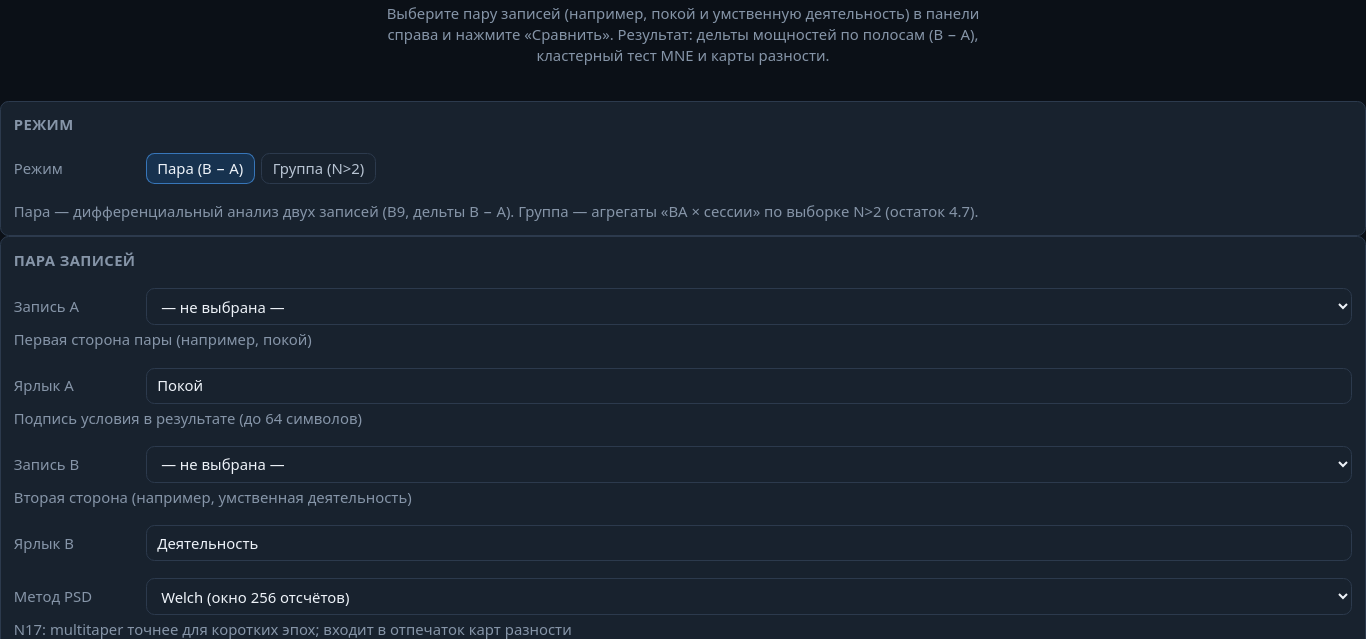
Test: режим «Группа (N>2)» › результат: паспорт, таблицы, каветы и экспорт CSV
The width and height of the screenshot is (1366, 639).
Click the button "Группа (N>2)": x=318, y=168 [261, 152, 376, 184]
(page scrolled)
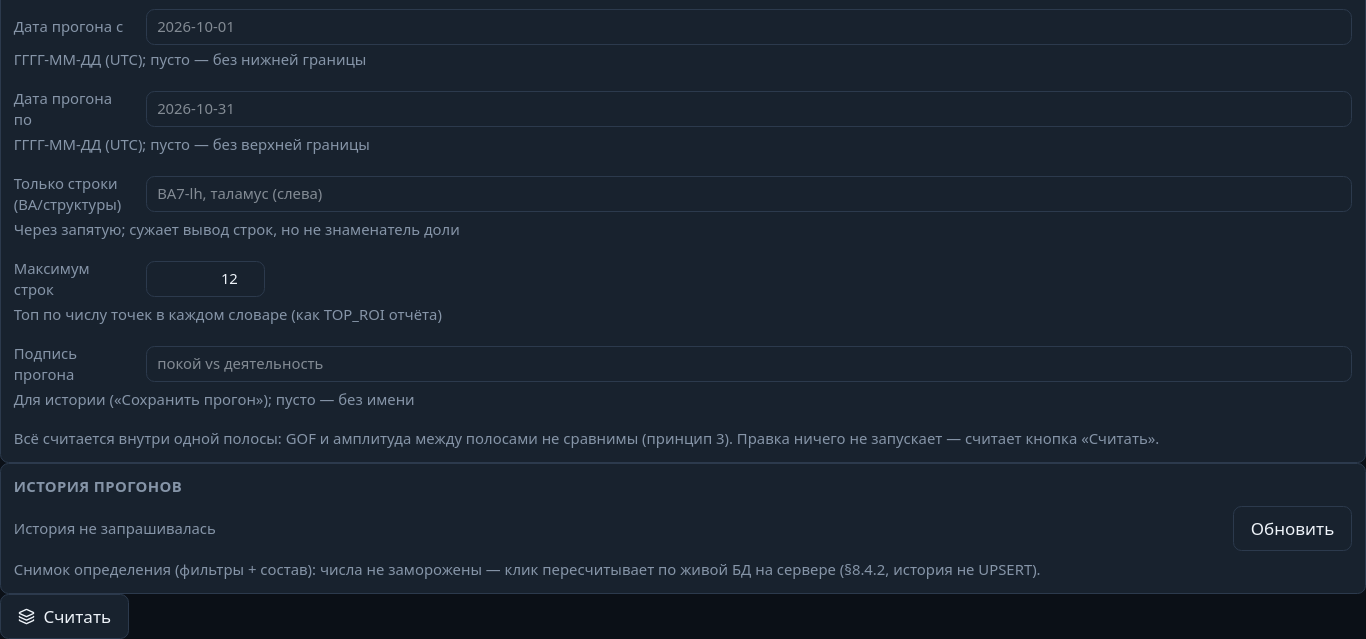
Click the button with test id "group-run-aggregate": x=65, y=616 [0, 594, 129, 638]
(page scrolled)
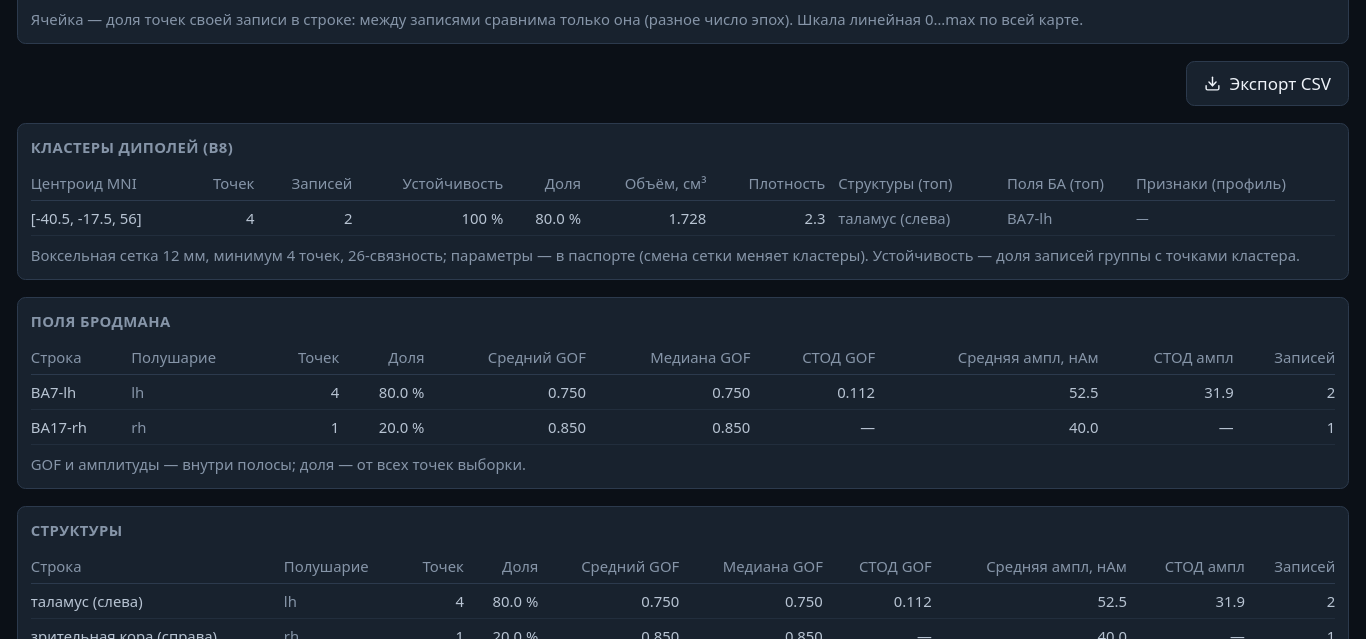
Check: the table with test id "group-table-brodmann" shows "BA7-lh", box [31, 382, 76, 402]
Check: the table with test id "group-table-structures" shows "таламус (слева)", box [31, 591, 143, 611]
Check: the button with test id "group-export-csv" is shown, box [1186, 62, 1349, 106]
